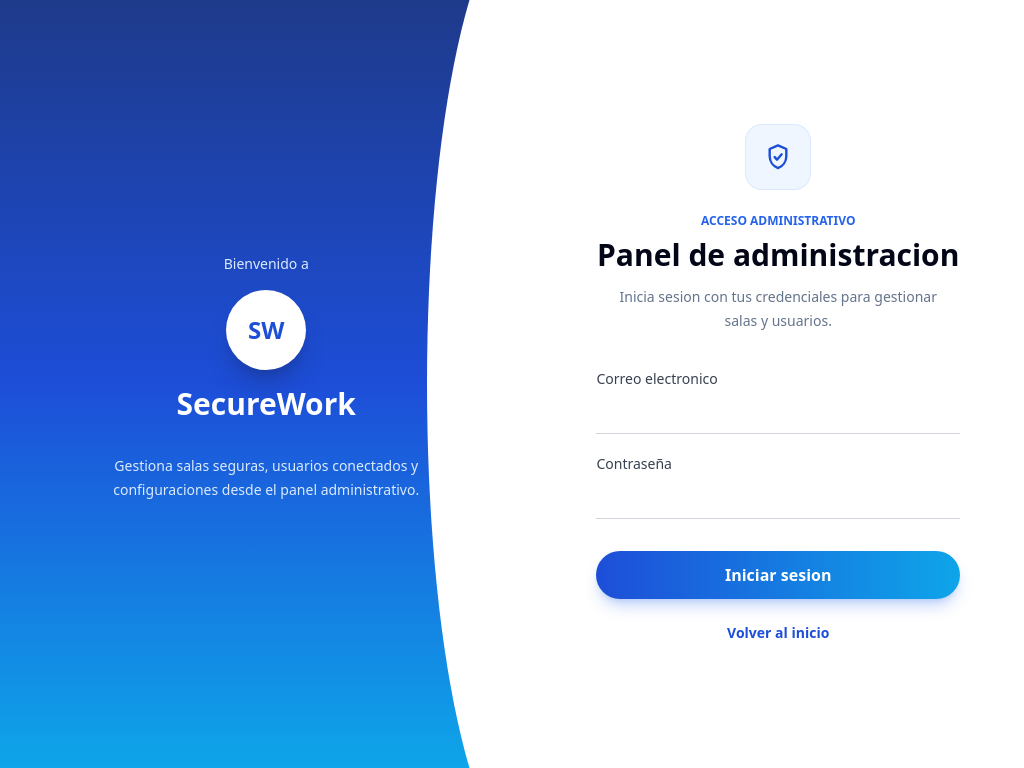
Test: AdminLogin › maneja error de login
Type "test@mail.com" into the field labelled "Correo electronico".
click(778, 414); type("test@mail.com")  # box [596,393,960,434]
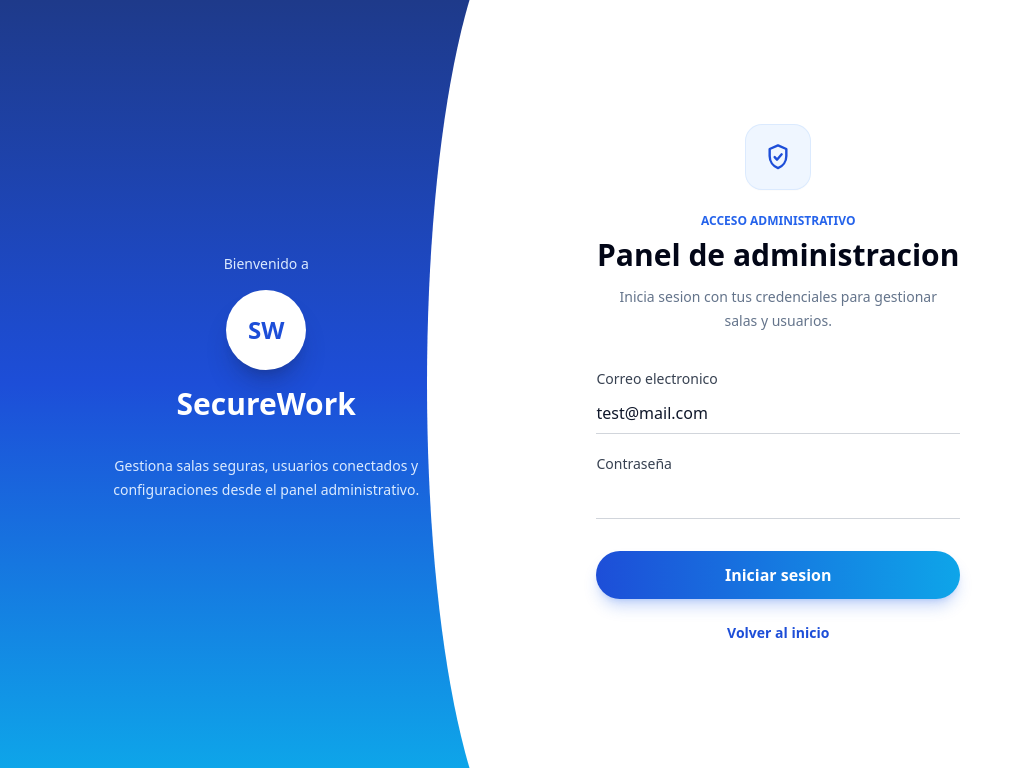
Type "123456" into the password field labelled "Contraseña".
click(778, 498); type("123456")  # box [596,478,960,519]
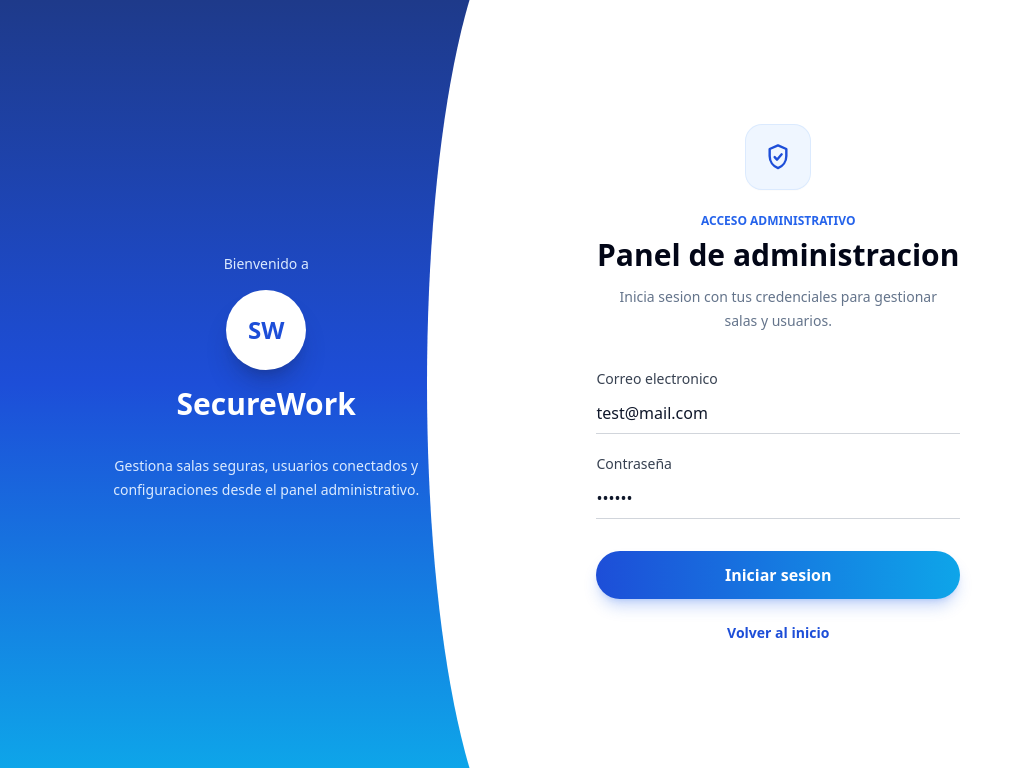
Click the button "Iniciar sesion".
click(778, 575)  # box [596,551,960,599]
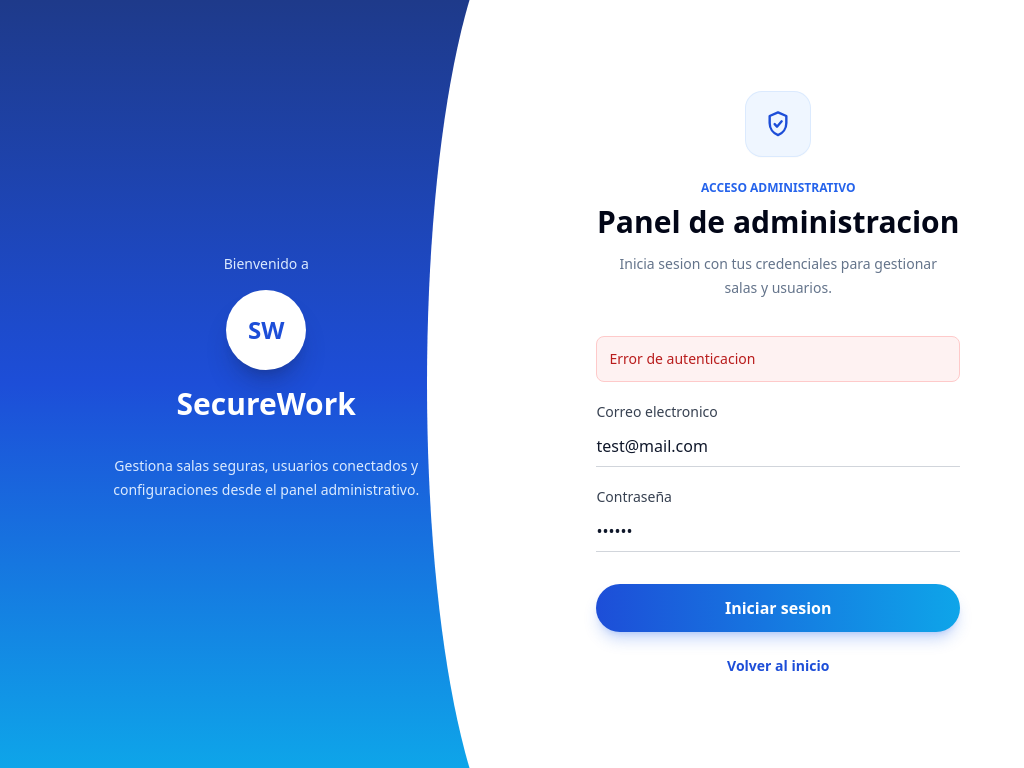
Now the text "Error de autenticacion" is shown, box [596,336,960,382]
